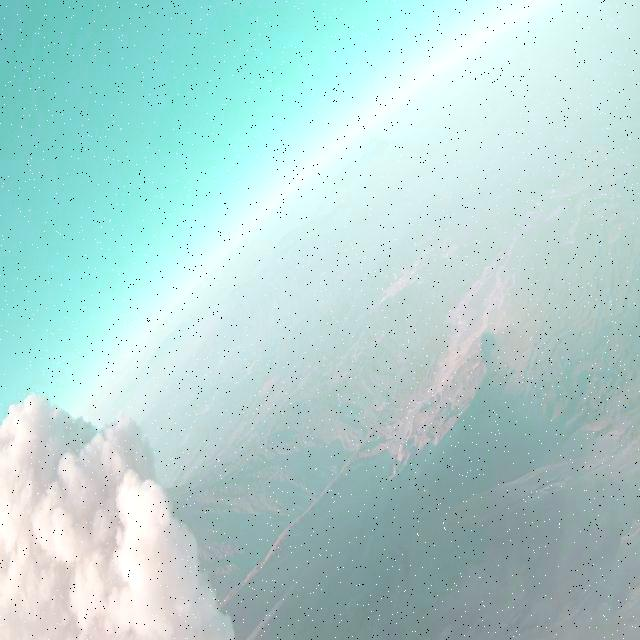Plume: (0, 377, 237, 640)
